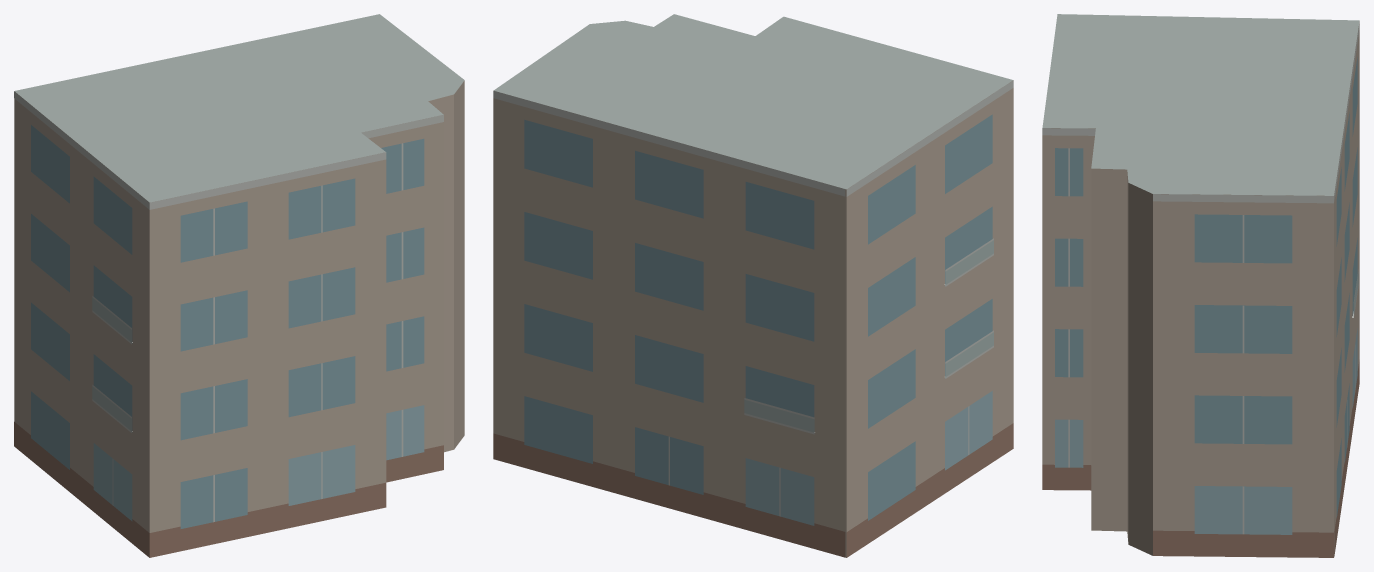
Rendered from survey-upis-32832275.glb.
3 renders of one model, left to right at view 1: azimuth 30°, elevation 25°; view 2: azimuth 150°, elevation 25°; view 3: azimuth 270°, elevation 25°, orthographic. The views are drawn at different scales.
Parts seen in each view (by area): view 1: survey-upis-32832275.tmp; view 2: survey-upis-32832275.tmp; view 3: survey-upis-32832275.tmp.
Boxes of the visible parts, left/top/right/bottom form: survey-upis-32832275.tmp: left=14, top=14, right=464, bottom=557; survey-upis-32832275.tmp: left=493, top=14, right=1013, bottom=557; survey-upis-32832275.tmp: left=1042, top=14, right=1359, bottom=557.
Size of the model in its own units: 12.78 by 11.85 by 9.42.
